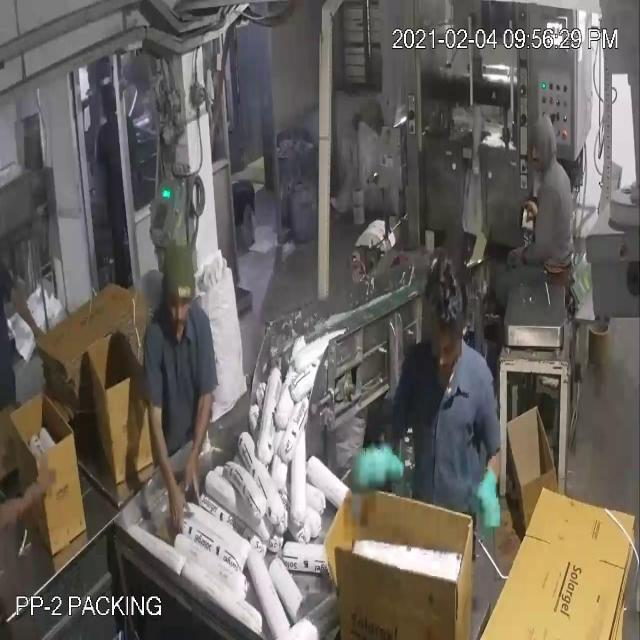No_Gloves: (26, 77, 488, 504)
